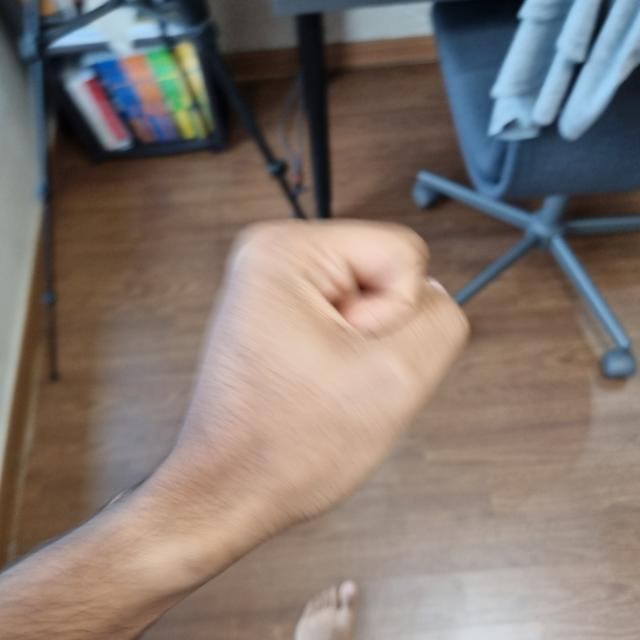Rock: (180, 220, 469, 527)
